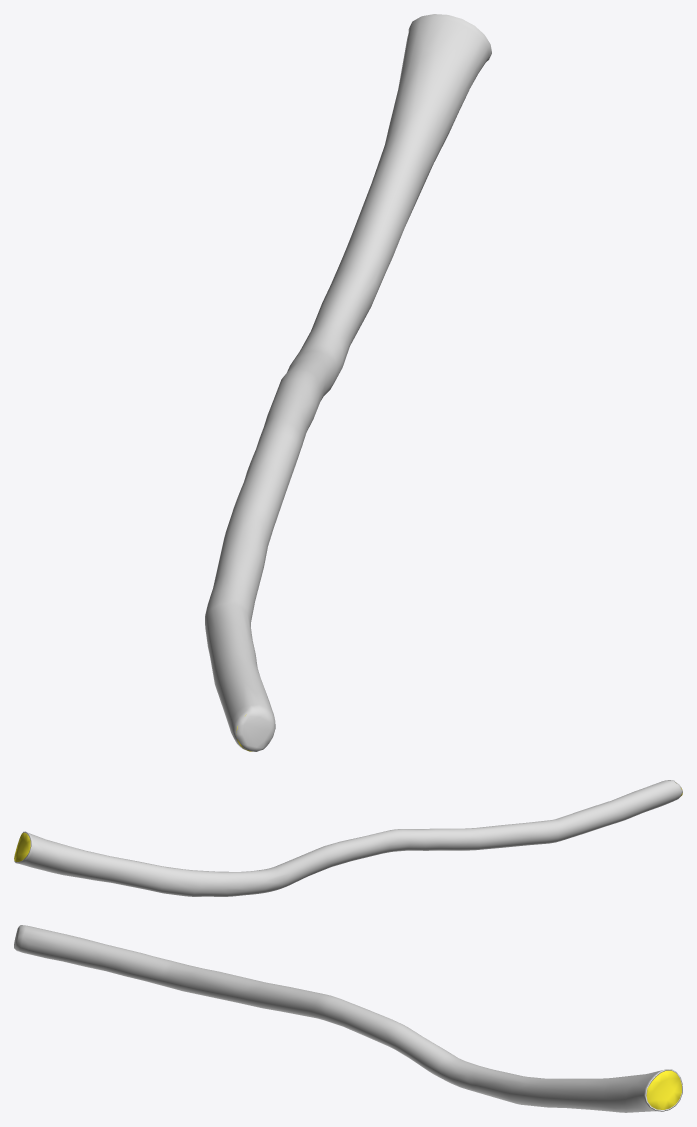
Rendered from optic_nerve_r.glb.
The picture shows the model from 3 angles, top to bottom: view 1: azimuth 30°, elevation 25°; view 2: azimuth 150°, elevation 25°; view 3: azimuth 270°, elevation 25°; orthographic projection. The views are drawn at different scales.
Visible parts, largest first — view 1: VH_M_dura_mater_right; view 2: VH_M_dura_mater_right, VH_M_right_optic_nerve; view 3: VH_M_dura_mater_right, VH_M_right_optic_nerve.
Boxes of the visible parts, x1,y1,x2,y2 form: VH_M_dura_mater_right: (205,14,491,751); VH_M_dura_mater_right: (14,780,682,896); VH_M_right_optic_nerve: (14,787,682,861); VH_M_dura_mater_right: (14,925,682,1112); VH_M_right_optic_nerve: (646,1070,681,1109).
Bounding box in the file's own units: 0.0337 × 0.00693 × 0.0421.
